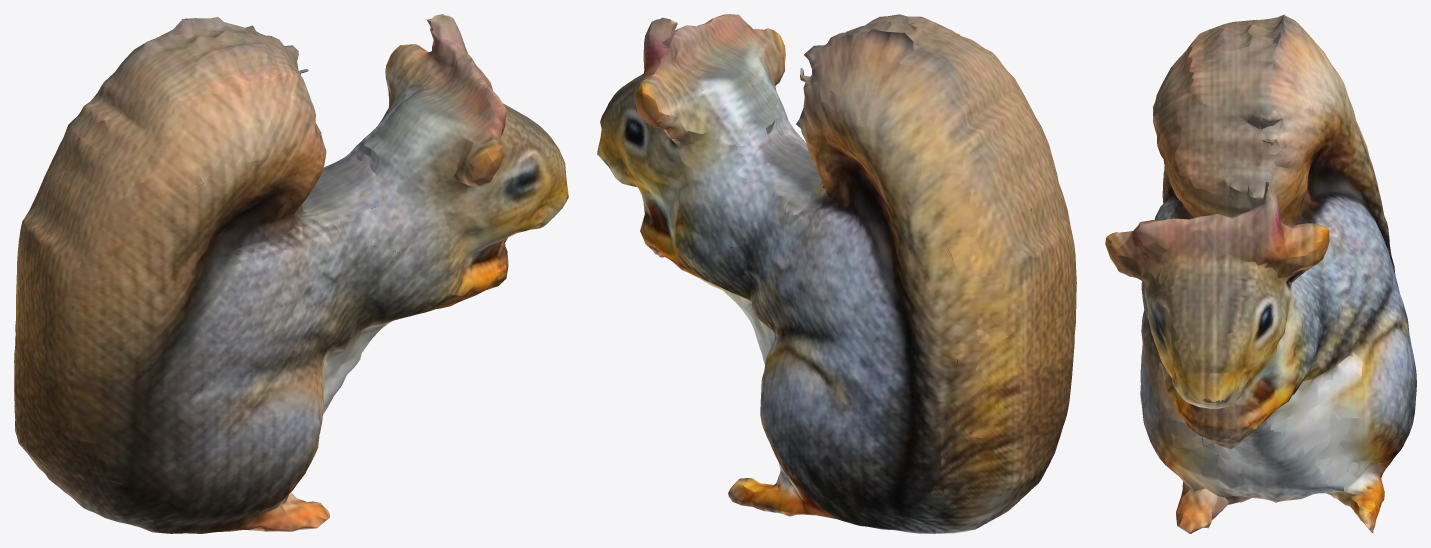
Rendered from perfect squirrel.glb.
The picture shows the model from 3 angles, left to right: view 1: azimuth 30°, elevation 25°; view 2: azimuth 150°, elevation 25°; view 3: azimuth 270°, elevation 25°; orthographic projection. The views are drawn at different scales.
Parts seen in each view (by area): view 1: world; view 2: world; view 3: world.
Boxes of the visible parts, <box> form: world: <box>14,14,568,533</box>; world: <box>597,14,1076,533</box>; world: <box>1105,14,1416,533</box>.
Bounding box in the file's own units: 0.4831 × 0.4563 × 0.271.
Materials: 1 (1 with a texture image).
